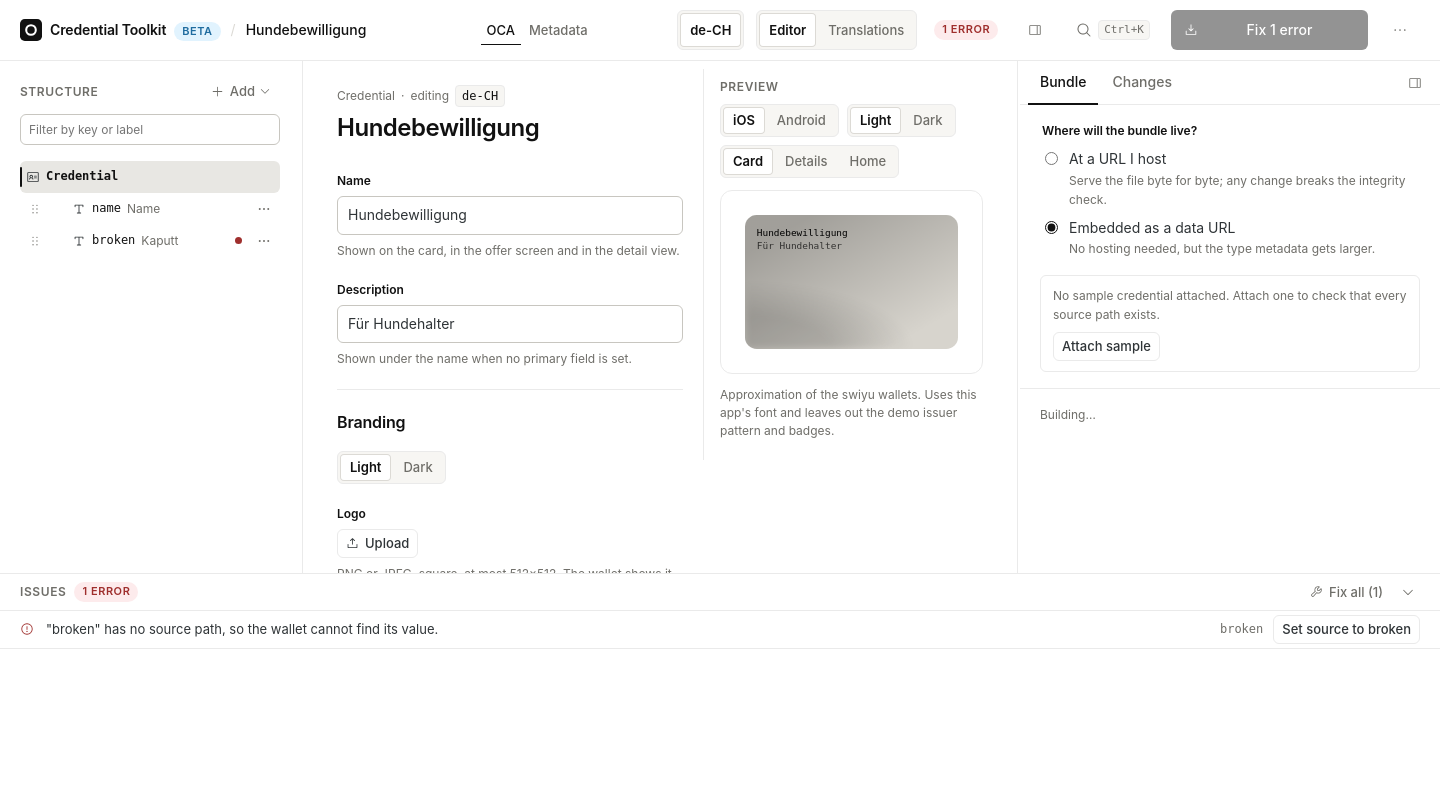
Test case: IssuesPanel › collapses to its header and expands again
Click the button named "Collapse issues" at (1408, 592), box [1396, 580, 1420, 604]
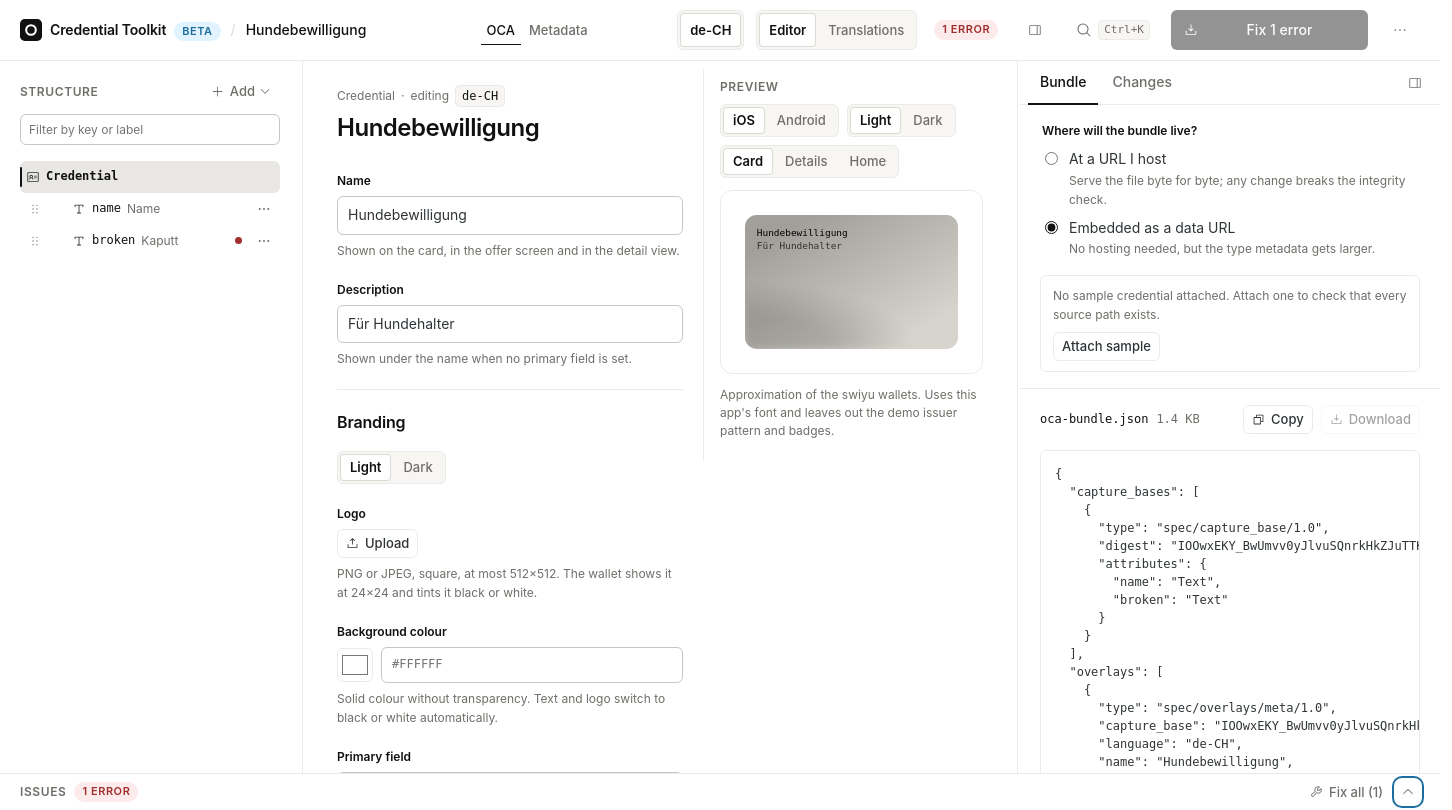
Expected: the text "1 error" next to "Issues" is shown, [82, 784, 130, 798]
Expected: the button named "Expand issues" is collapsed
Click the button named "Expand issues" at (1408, 792), box [1396, 780, 1420, 804]
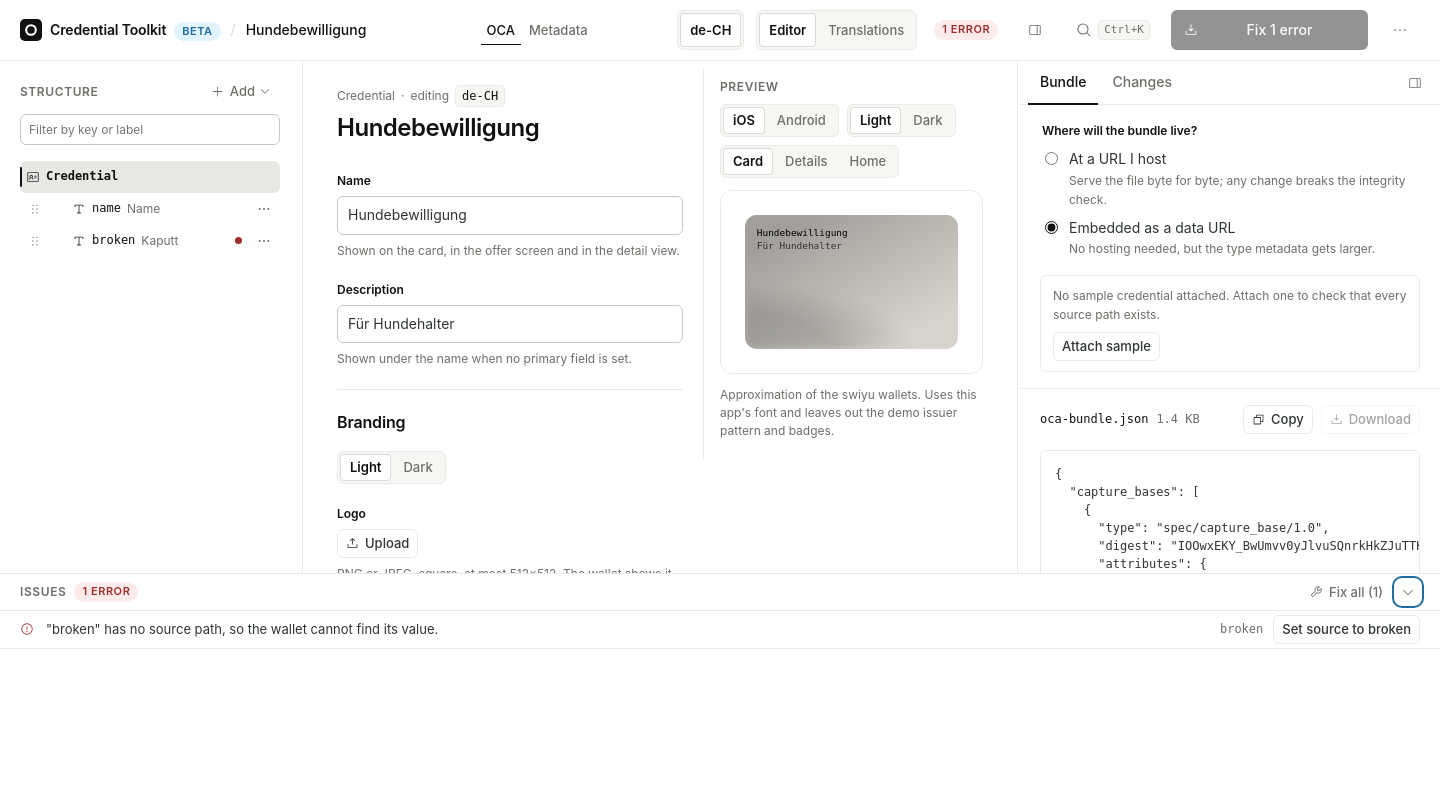
Expected: the 2nd list is shown, [0, 611, 1440, 649]
